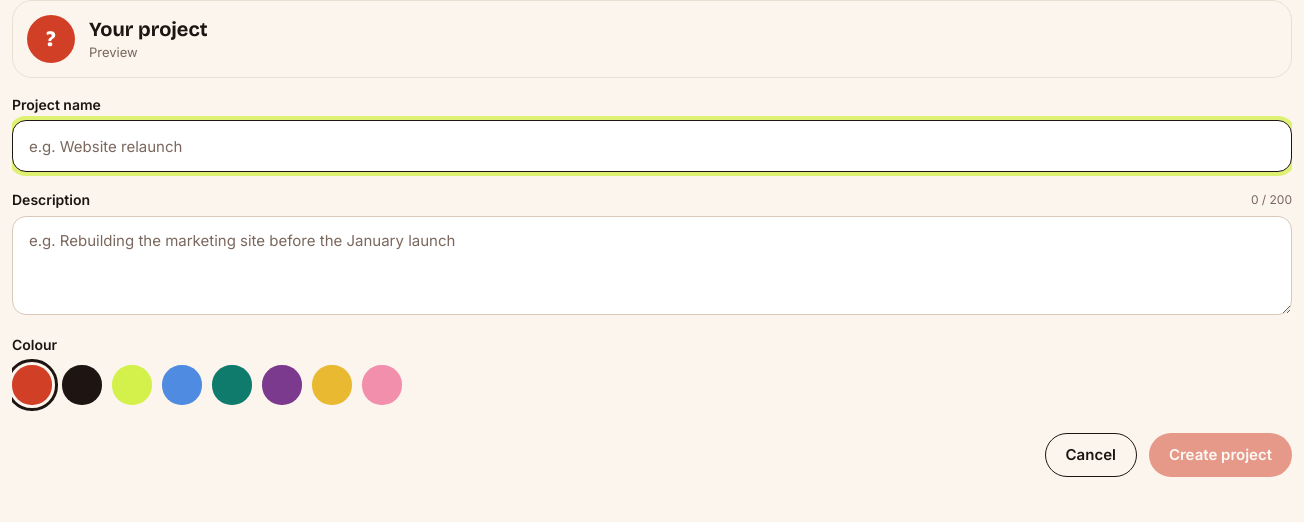
Test: NewProjectForm › shows a server field error on the field
Type "Launch" into the field labelled "Project name". click: {"x": 652, "y": 146}
box: [12,120,1292,172]
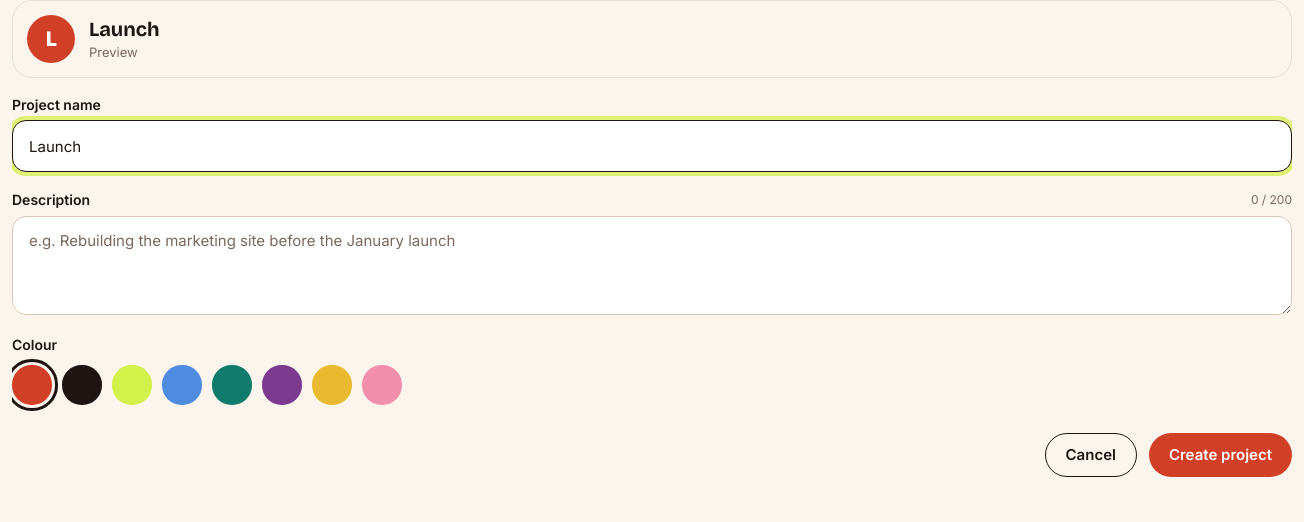
Click the button "Create project". click: {"x": 1220, "y": 455}
box: [1149,433,1292,477]
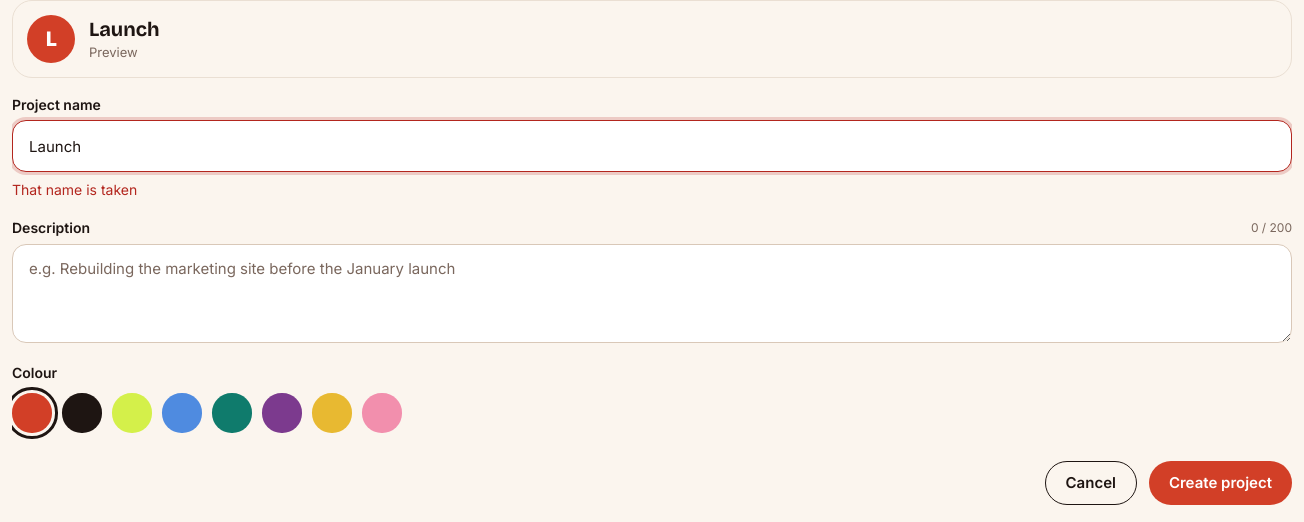
Expected: the text "That name is taken" is shown, [12,181,137,198]
